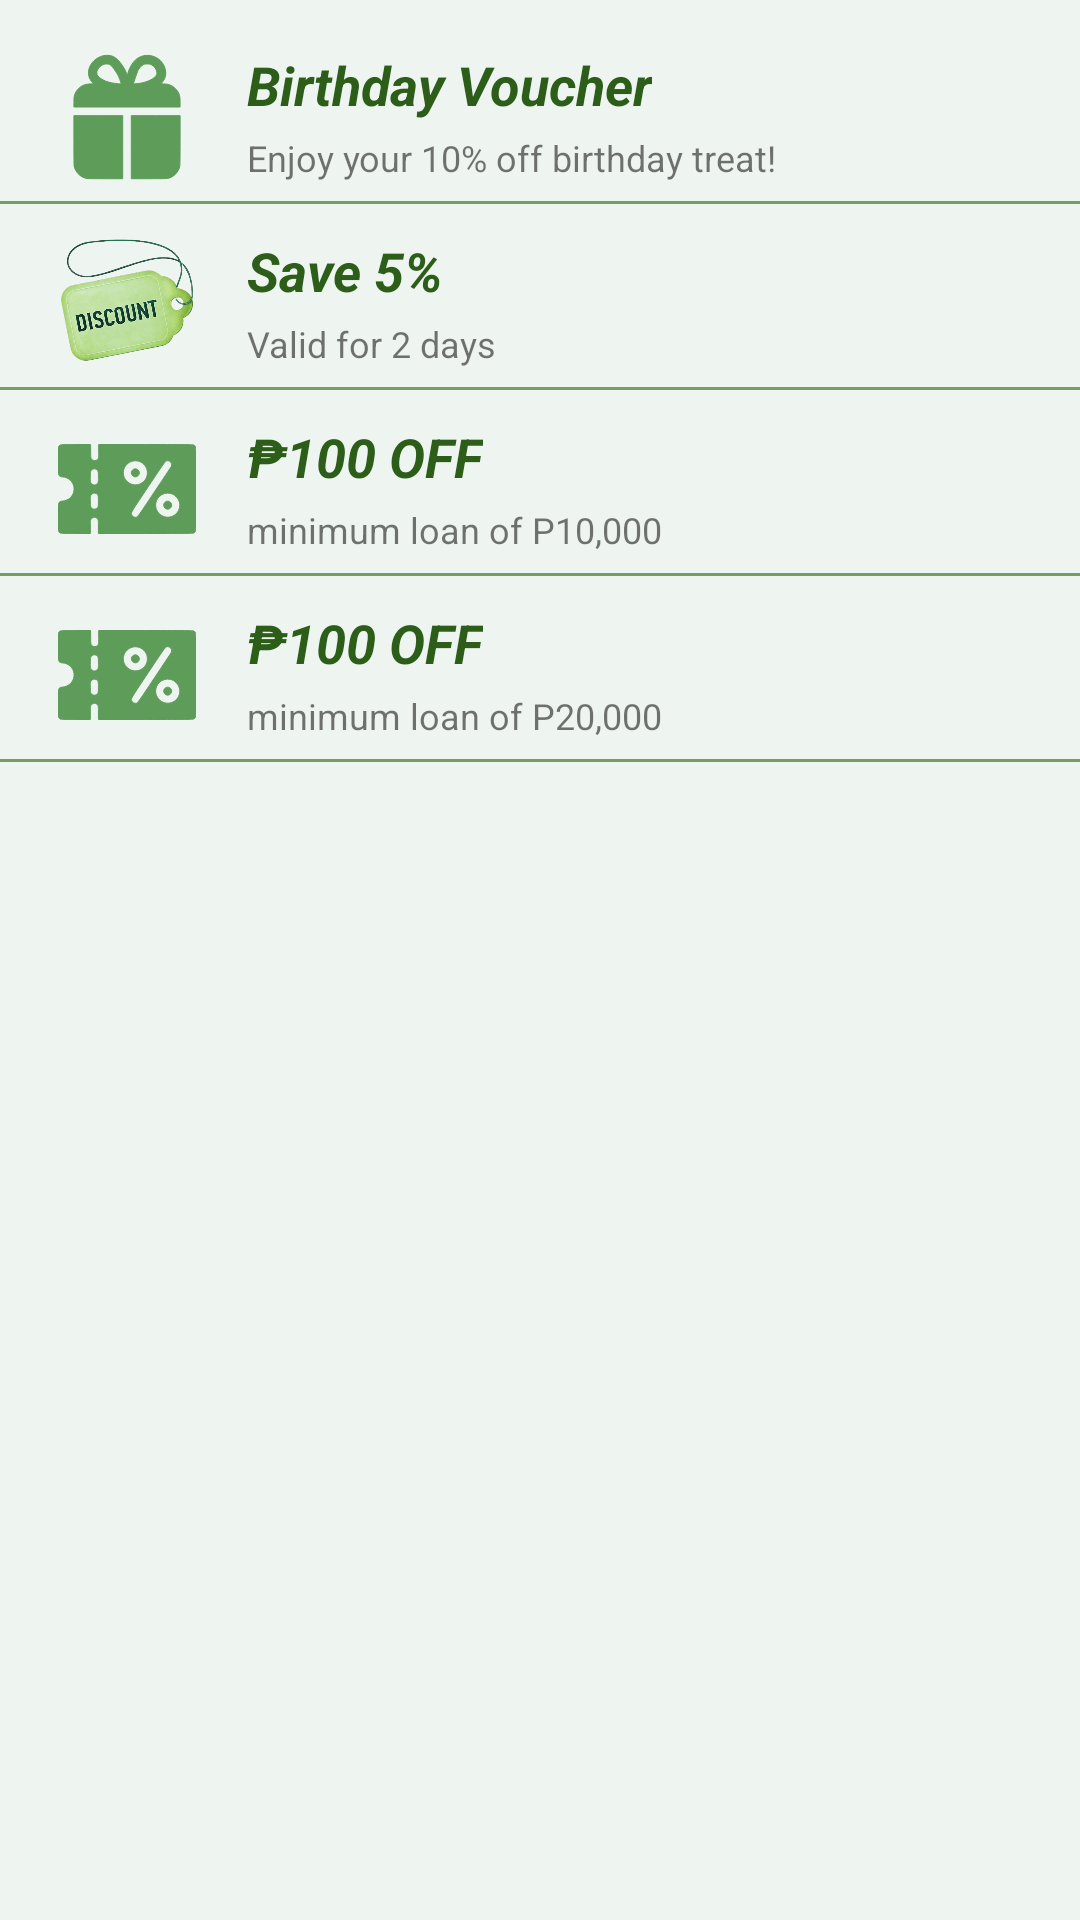

Where to tap for icons on this 1080 x 1920 app screen, as [x,y]:
coupon: [127,489], [127,675]
loyalgift: [127,117]
